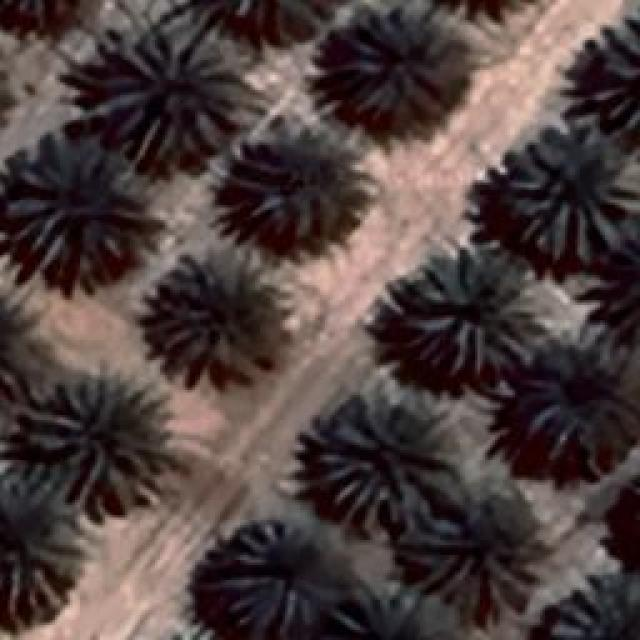PalmTree: (100, 53, 386, 613), (31, 135, 100, 558), (90, 30, 252, 168), (20, 370, 170, 515), (2, 132, 148, 280), (142, 242, 288, 388), (312, 388, 460, 530), (405, 245, 545, 378), (507, 125, 635, 265), (395, 510, 540, 625), (210, 515, 348, 635), (334, 9, 448, 122), (514, 340, 628, 450), (242, 109, 338, 239), (322, 587, 448, 640), (547, 570, 635, 638), (587, 10, 635, 130), (194, 0, 338, 35), (0, 289, 33, 410), (609, 226, 640, 347), (416, 0, 546, 19), (620, 222, 640, 344), (0, 0, 87, 23), (128, 625, 251, 640), (132, 628, 244, 640)
